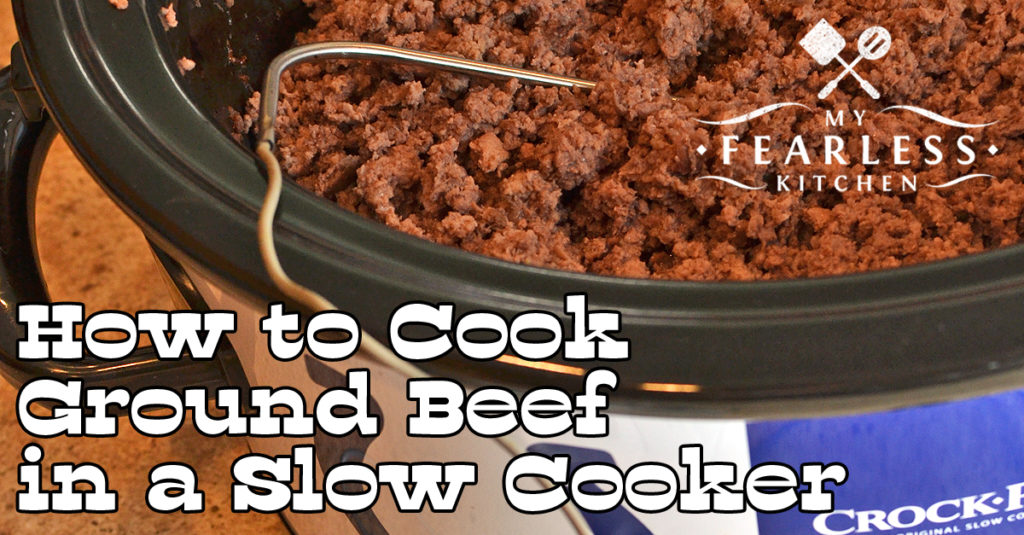ground_beef: (258, 1, 981, 279)
